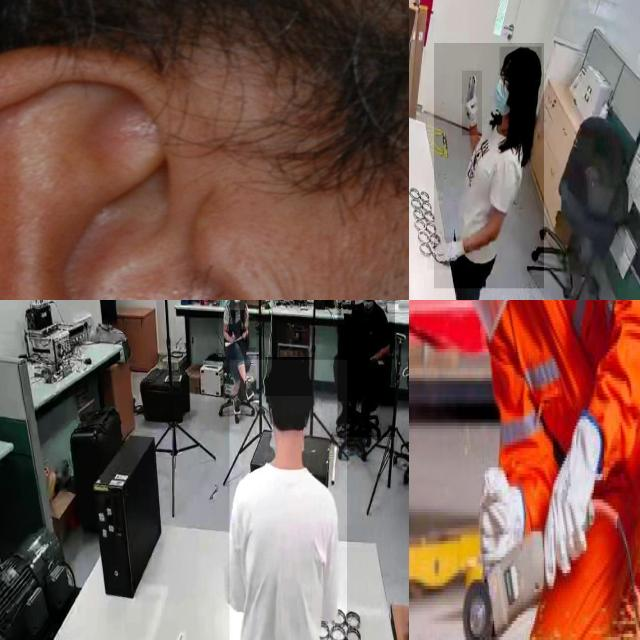No_Ear-Protection: (0, 40, 313, 300)
face_mask: (492, 75, 514, 128), (230, 300, 244, 309)
hand_glove: (427, 237, 469, 270), (462, 70, 482, 136)
hand_noglove: (240, 329, 248, 343), (228, 330, 236, 344)
head_nohelmet: (266, 357, 312, 396), (499, 46, 542, 76)
person: (229, 359, 347, 640), (434, 43, 544, 289), (337, 300, 395, 438), (219, 300, 257, 399)
